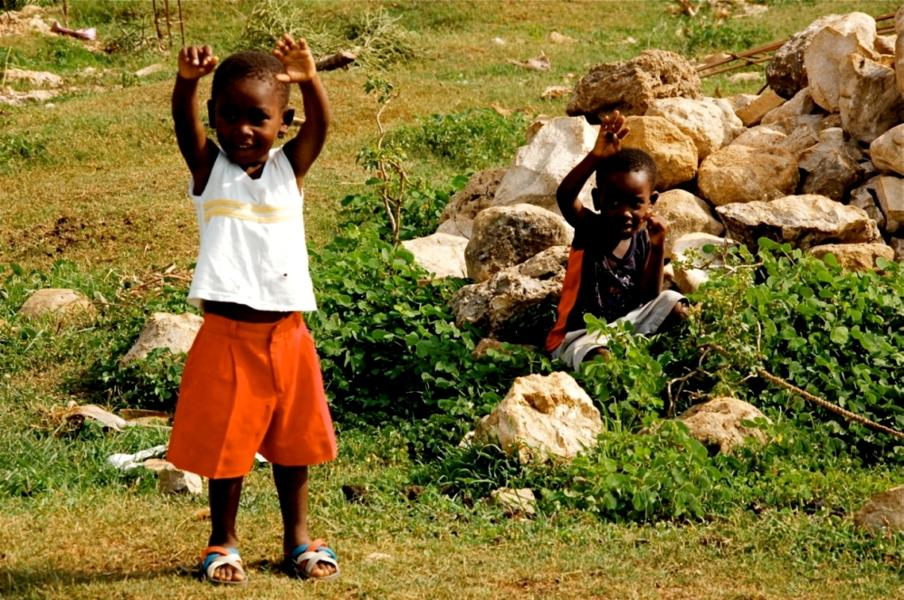person: (172, 38, 337, 576)
